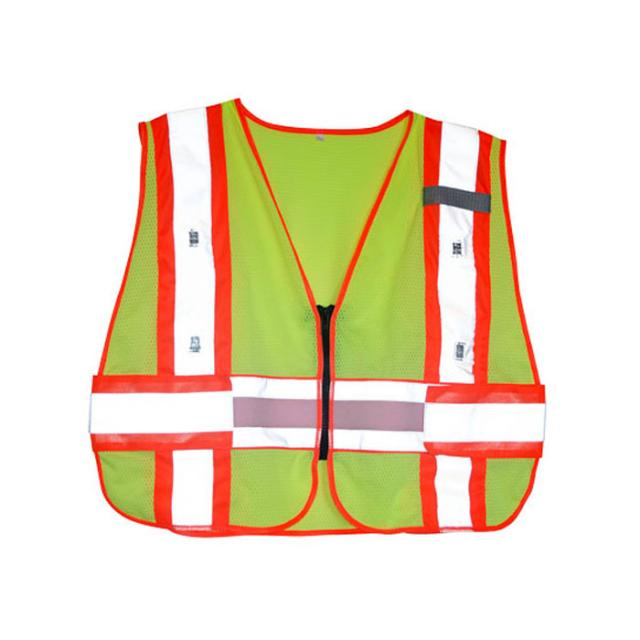Reflective-Jacket: (39, 91, 579, 542)
